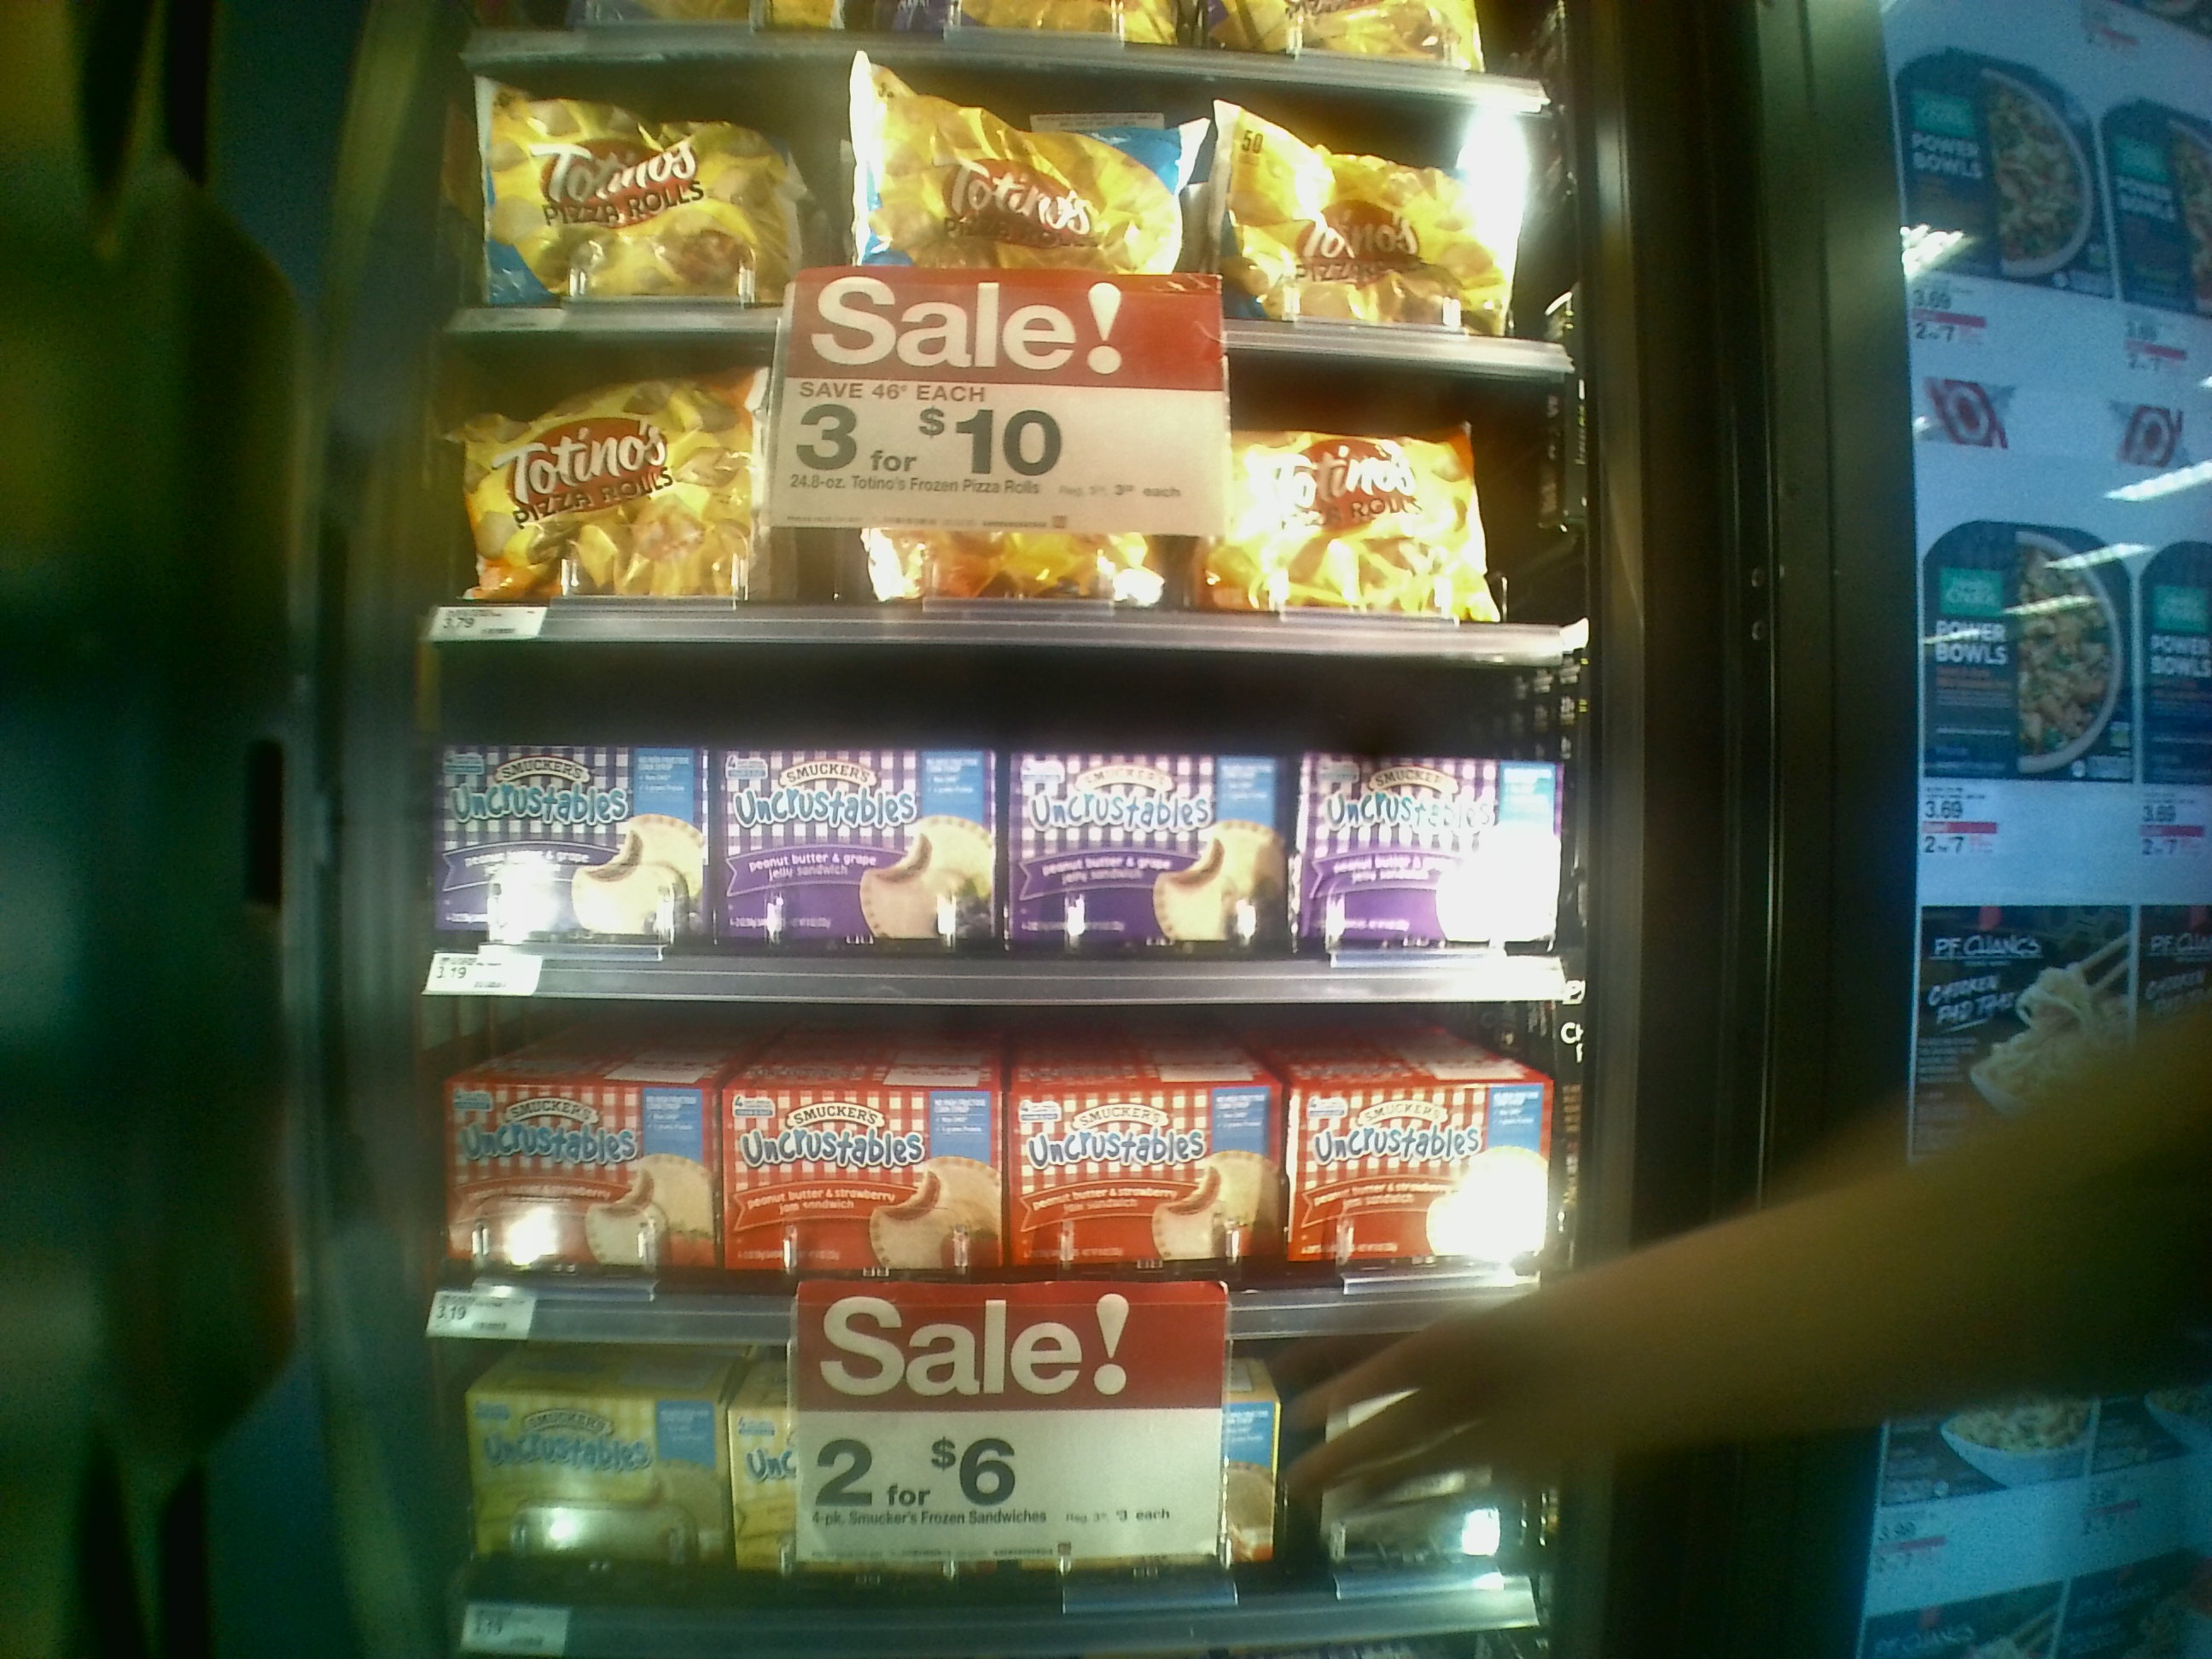shelf: (408, 640, 1602, 1012), (425, 328, 1588, 655)
